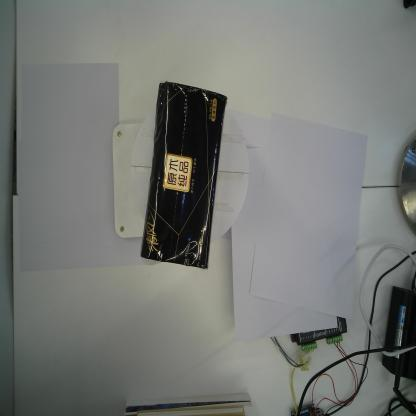Tissue: (140, 80, 228, 270)
